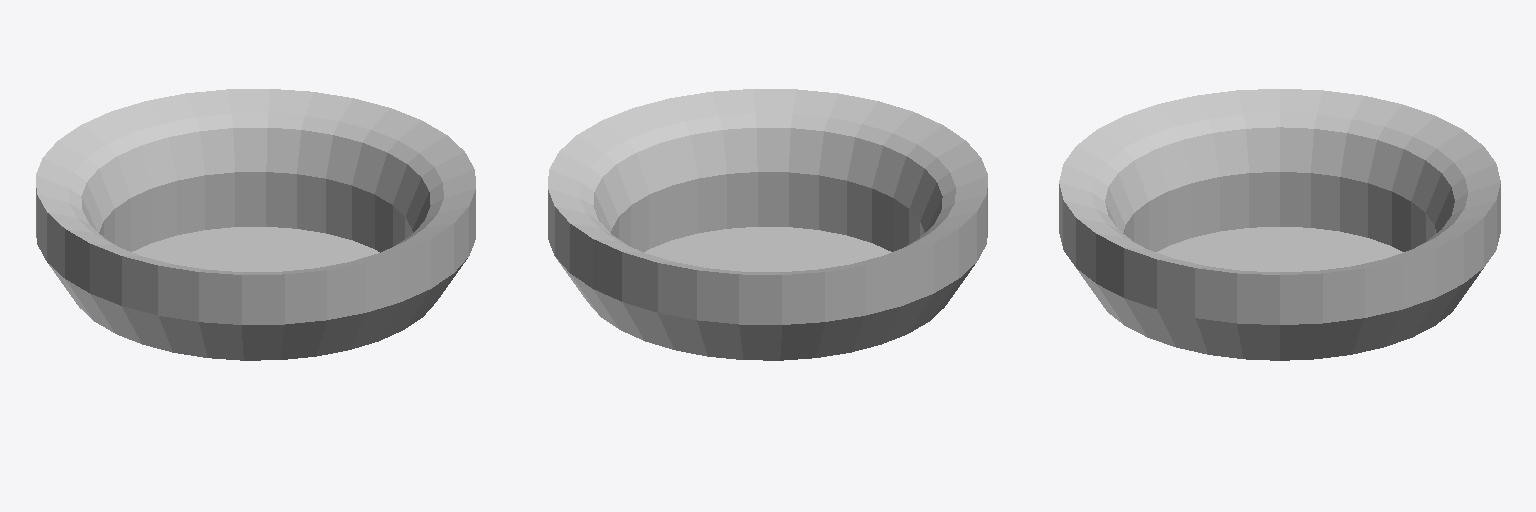
The model's file is lesson_10_bowl.obj.
3 renders of one model, left to right at view 1: azimuth 30°, elevation 25°; view 2: azimuth 150°, elevation 25°; view 3: azimuth 270°, elevation 25°, orthographic.
Visible parts, largest first — view 1: Cylinder; view 2: Cylinder; view 3: Cylinder.
Boxes of the visible parts, x1,y1,x2,y2 form: Cylinder: [36, 89, 475, 360]; Cylinder: [548, 89, 987, 360]; Cylinder: [1059, 89, 1500, 360].
Bounding box in the file's own units: 2 × 0.7402 × 2.